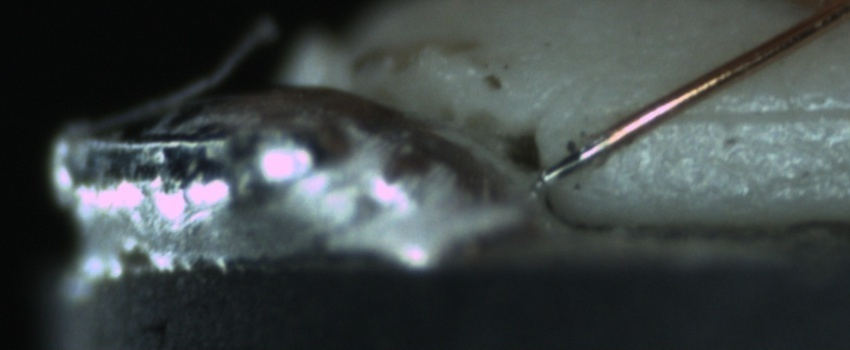DL: (673, 81, 849, 148)
TS: (540, 137, 608, 187)
